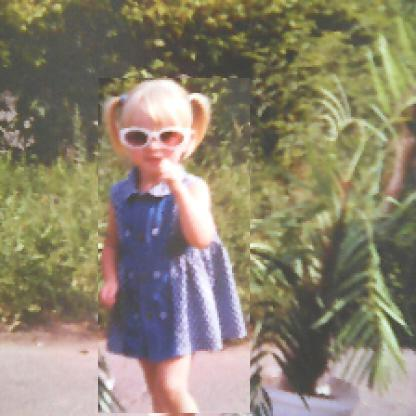child: (99, 79, 252, 415)
